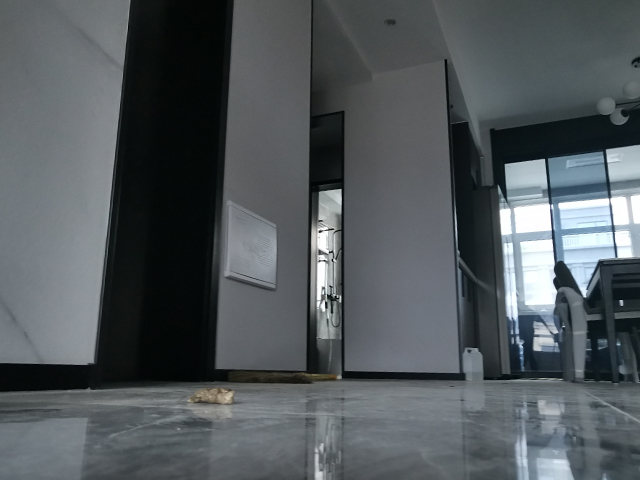closestool: (316, 337, 344, 376)
feces: (183, 384, 237, 408)
stool: (548, 258, 640, 386)
table: (583, 257, 640, 387)
